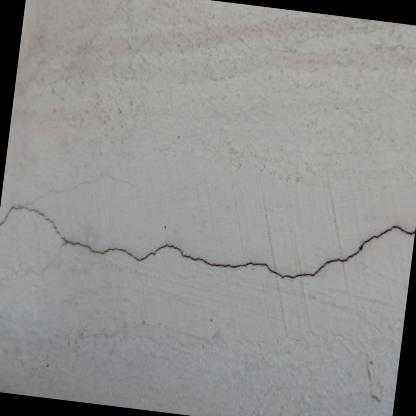crack: (0, 205, 415, 278)
